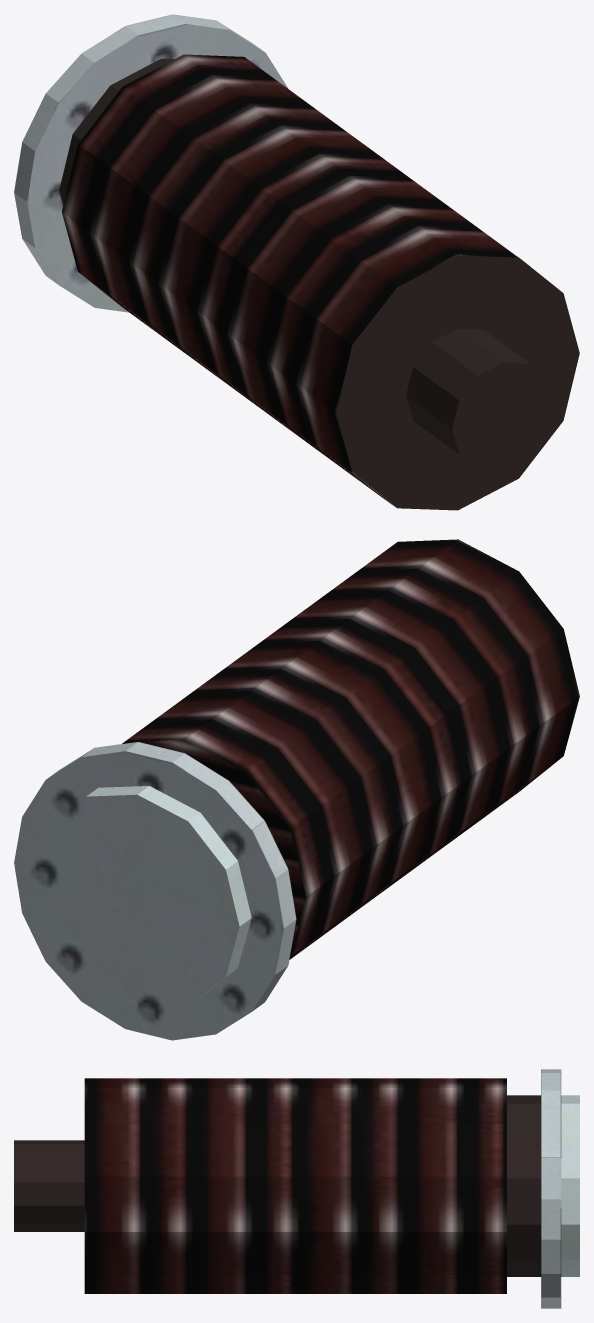
File: 35kvtg002-geode.glb
The picture shows the model from 3 angles, top to bottom: view 1: azimuth 30°, elevation 25°; view 2: azimuth 150°, elevation 25°; view 3: azimuth 270°, elevation 25°; orthographic projection. The views are drawn at different scales.
Parts seen in each view (by area): view 1: Node; view 2: Node; view 3: Node.
Part boxes in pixels (left/top/right/bottom): Node: left=14, top=14, right=579, bottom=510; Node: left=14, top=539, right=579, bottom=1040; Node: left=14, top=1069, right=579, bottom=1308.
Bounding box in the file's own units: 0.229 × 0.2255 × 0.5399.
4 materials, 4 textured.
